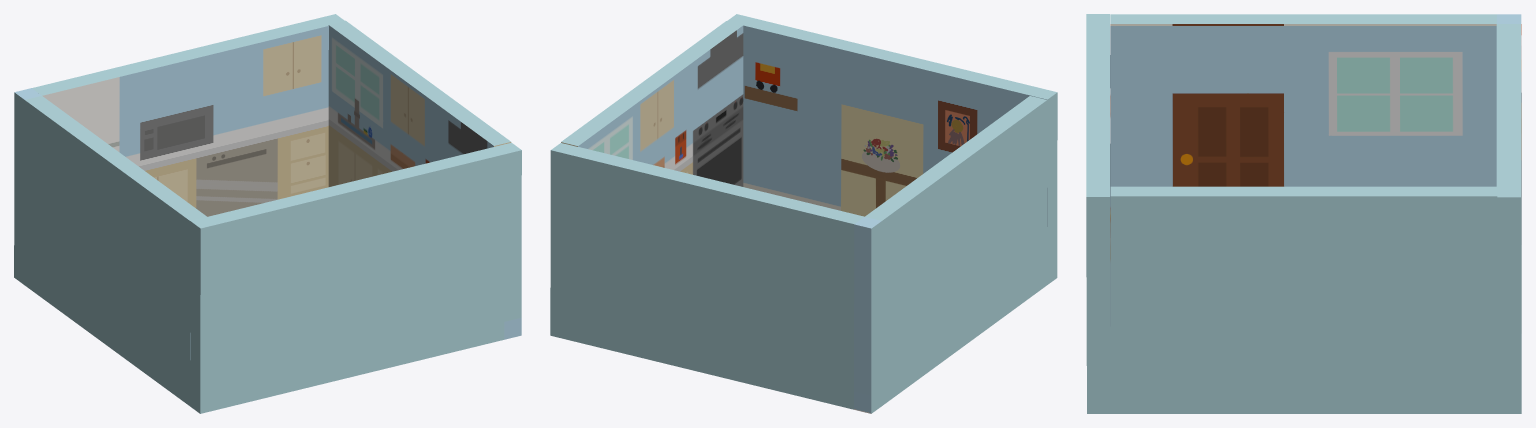
The model's file is kitchenbg.fbx.
3 views of the same model, side by side, from view 1: azimuth 30°, elevation 25°; view 2: azimuth 150°, elevation 25°; view 3: azimuth 270°, elevation 25° (orthographic). The views are drawn at different scales.
Parts seen in each view (by area): view 1: Cube; view 2: Cube; view 3: Cube.
Part boxes in pixels (x1,y1,x2,y2): Cube: (14,14,521,413); Cube: (550,14,1057,413); Cube: (1086,14,1521,413).
Size of the model in its own units: 17737 by 9832 by 17836.
